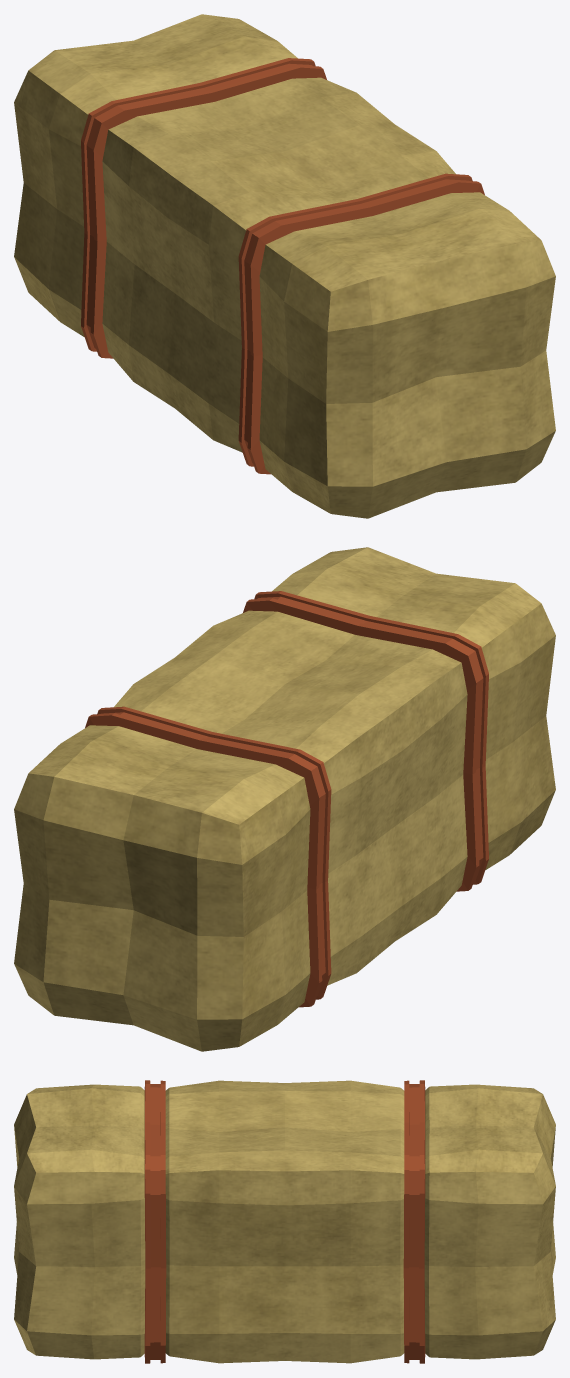
File: blocoFeno.fbx
3 renders of one model, top to bottom at view 1: azimuth 30°, elevation 25°; view 2: azimuth 150°, elevation 25°; view 3: azimuth 270°, elevation 25°, orthographic. The views are drawn at different scales.
Visible parts, largest first — view 1: BlocoFeno; view 2: BlocoFeno; view 3: BlocoFeno.
Boxes of the visible parts, left/top/right/bottom form: BlocoFeno: left=14, top=14, right=555, bottom=518; BlocoFeno: left=14, top=547, right=555, bottom=1051; BlocoFeno: left=14, top=1080, right=555, bottom=1363.
Size of the model in its own units: 64.97 by 65.2 by 156.
